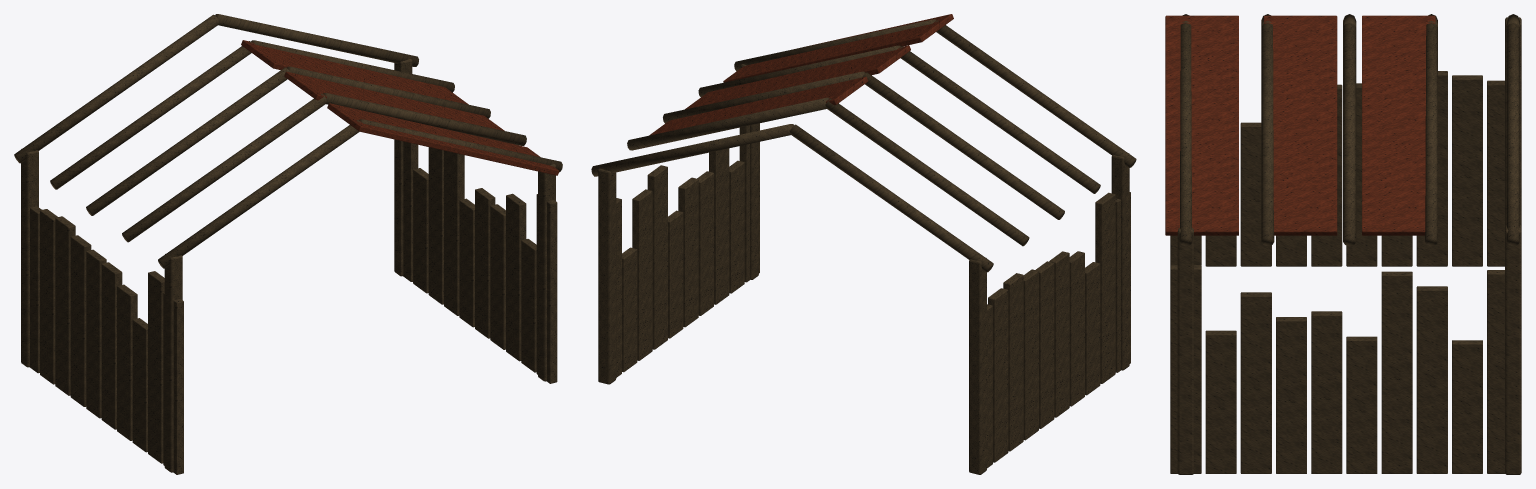
The model's file is farm_ruin.glb.
3 renders of one model, left to right at view 1: azimuth 30°, elevation 25°; view 2: azimuth 150°, elevation 25°; view 3: azimuth 270°, elevation 25°, orthographic. The views are drawn at different scales.
Parts seen in each view (by area): view 1: remaining_roof, remaining_roof.002, broken_board.001, roof_rafter.001, roof_rafter.002, roof_rafter.004, broken_board.006, broken_board.007, roof_rafter.003, broken_board.016, roof_rafter, broken_board.012 (+25 smaller); view 2: timber_frame.003, timber_frame.001, broken_board.001, remaining_roof, remaining_roof.001, broken_board.016, broken_board.017, roof_rafter.003, roof_rafter.002, roof_rafter.004, broken_board.007, roof_rafter.001 (+25 smaller); view 3: remaining_roof.001, remaining_roof.002, remaining_roof, broken_board.016, broken_board.017, broken_board.008, broken_board.012, broken_board.014, broken_board.013, broken_board.011, broken_board.015, broken_board.018 (+19 smaller).
Boxes of the visible parts, x1=… form: remaining_roof: x1=327, y1=103, x2=559, y2=175; remaining_roof.002: x1=241, y1=40, x2=468, y2=104; broken_board.001: x1=148, y1=271, x2=164, y2=463; roof_rafter.001: x1=122, y1=93, x2=327, y2=242; roof_rafter.002: x1=86, y1=67, x2=289, y2=215; roof_rafter.004: x1=14, y1=14, x2=219, y2=163; broken_board.006: x1=70, y1=235, x2=91, y2=406; broken_board.007: x1=55, y1=216, x2=75, y2=395; roof_rafter.003: x1=50, y1=41, x2=252, y2=189; broken_board.016: x1=444, y1=150, x2=464, y2=315; roof_rafter: x1=158, y1=120, x2=360, y2=268; broken_board.012: x1=506, y1=193, x2=526, y2=361; timber_frame.003: x1=598, y1=168, x2=616, y2=384; timber_frame.001: x1=969, y1=258, x2=986, y2=474; broken_board.001: x1=1095, y1=192, x2=1115, y2=383; remaining_roof: x1=723, y1=14, x2=953, y2=82; remaining_roof.001: x1=685, y1=45, x2=910, y2=109; broken_board.016: x1=647, y1=165, x2=667, y2=349; broken_board.017: x1=632, y1=189, x2=652, y2=360; roof_rafter.003: x1=825, y1=98, x2=1029, y2=246; roof_rafter.002: x1=862, y1=72, x2=1064, y2=219; roof_rafter.004: x1=790, y1=124, x2=993, y2=272; broken_board.007: x1=1003, y1=273, x2=1023, y2=451; roof_rafter.001: x1=899, y1=46, x2=1100, y2=193; remaining_roof.001: x1=1263, y1=15, x2=1337, y2=235; remaining_roof.002: x1=1362, y1=15, x2=1435, y2=235; remaining_roof: x1=1165, y1=15, x2=1238, y2=235; broken_board.016: x1=1381, y1=271, x2=1412, y2=473; broken_board.017: x1=1416, y1=286, x2=1447, y2=473; broken_board.008: x1=1452, y1=75, x2=1482, y2=266; broken_board.012: x1=1240, y1=292, x2=1271, y2=473; broken_board.014: x1=1311, y1=311, x2=1342, y2=473; broken_board.013: x1=1276, y1=317, x2=1306, y2=473; broken_board.011: x1=1205, y1=330, x2=1236, y2=473; broken_board.015: x1=1346, y1=336, x2=1377, y2=473; broken_board.018: x1=1452, y1=340, x2=1482, y2=473.
Bounding box in the file's own units: 6.46 × 4.7 × 4.35.
2 materials, 2 textured.
